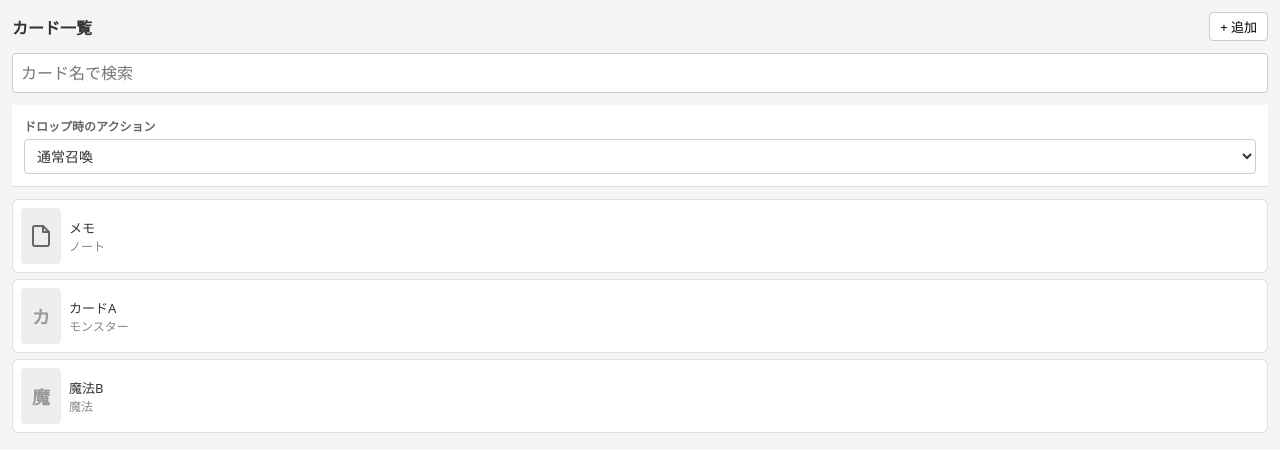
Test: CardList › 検索でカードを絞り込む
Type "魔法" into the search field with placeholder "カード名で検索".
click(640, 73); type("魔法")  # box [12, 53, 1268, 93]
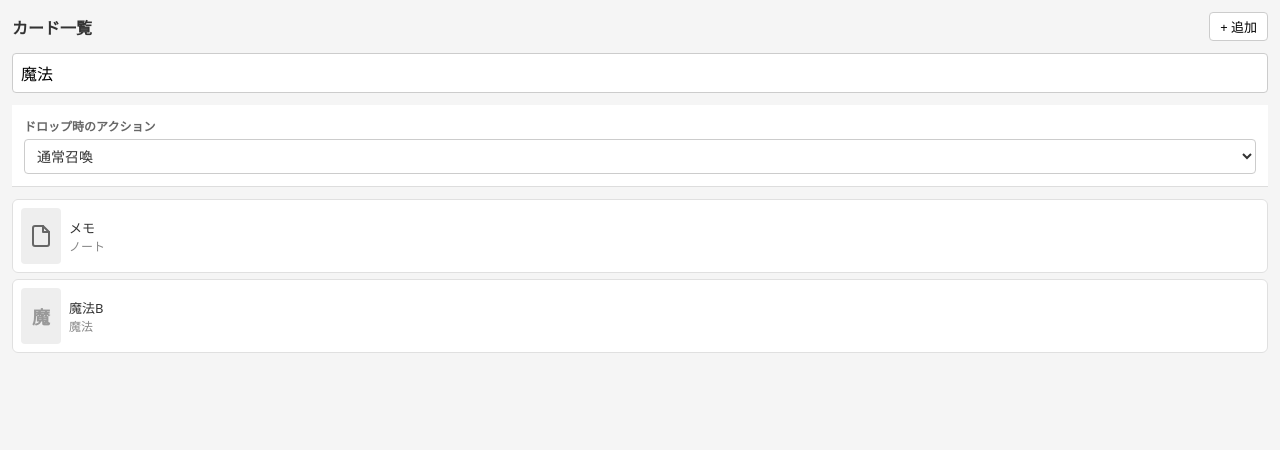
Expected: the text "魔法B" is shown, [69, 298, 104, 316]
Now the button "カードA" is gone
